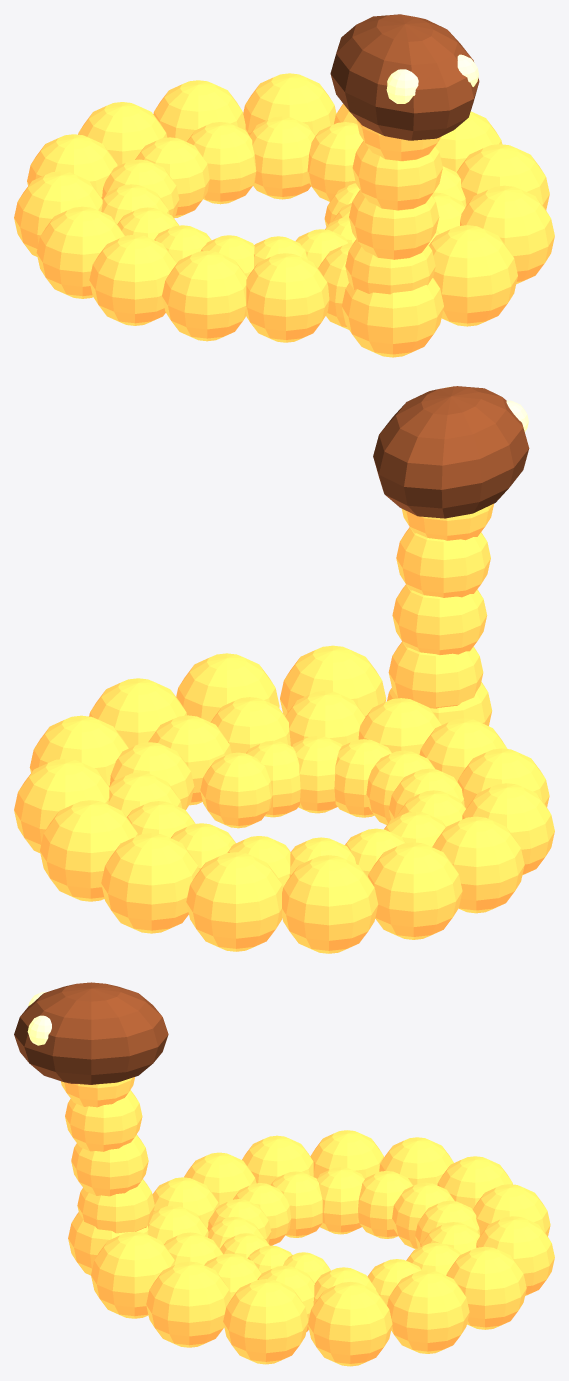
File: creature_snake_ember.glb
3 views of the same model, one above another, from view 1: azimuth 30°, elevation 25°; view 2: azimuth 150°, elevation 25°; view 3: azimuth 270°, elevation 25° (orthographic). The views are drawn at different scales.
Parts seen in each view (by area): view 1: creature_snake_ember; view 2: creature_snake_ember; view 3: creature_snake_ember.
Boxes of the visible parts, x1=… form: creature_snake_ember: x1=14, y1=14, x2=554, y2=357; creature_snake_ember: x1=14, y1=386, x2=554, y2=953; creature_snake_ember: x1=14, y1=982, x2=554, y2=1366.
Size of the model in its own units: 1.42 by 1 by 1.69.
